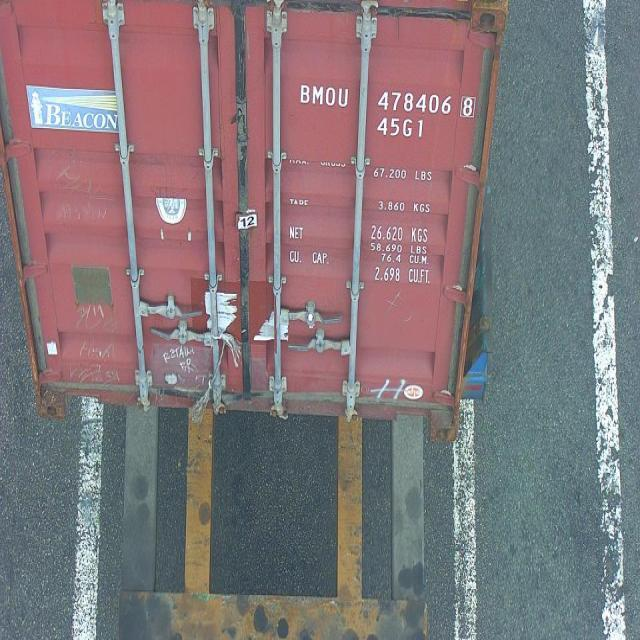ISO: (377, 116, 424, 137)
container_number: (303, 89, 473, 114)
